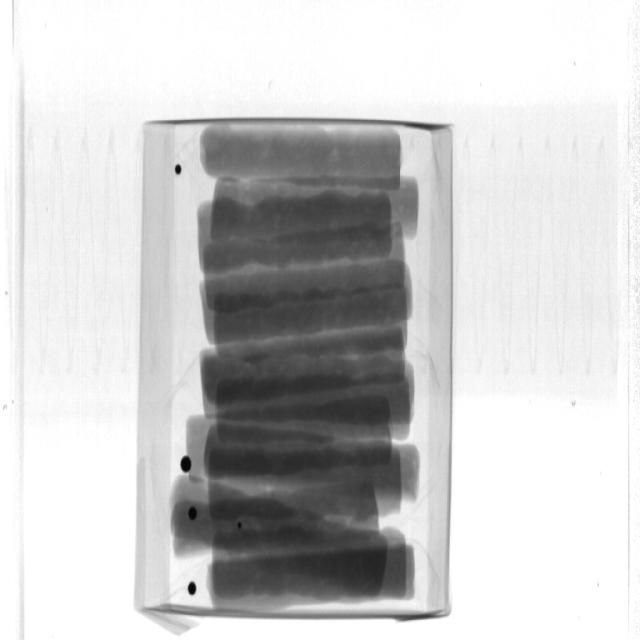ym: (181, 456, 192, 473), (189, 505, 198, 520), (189, 583, 197, 596), (176, 166, 184, 175), (238, 521, 244, 531)
